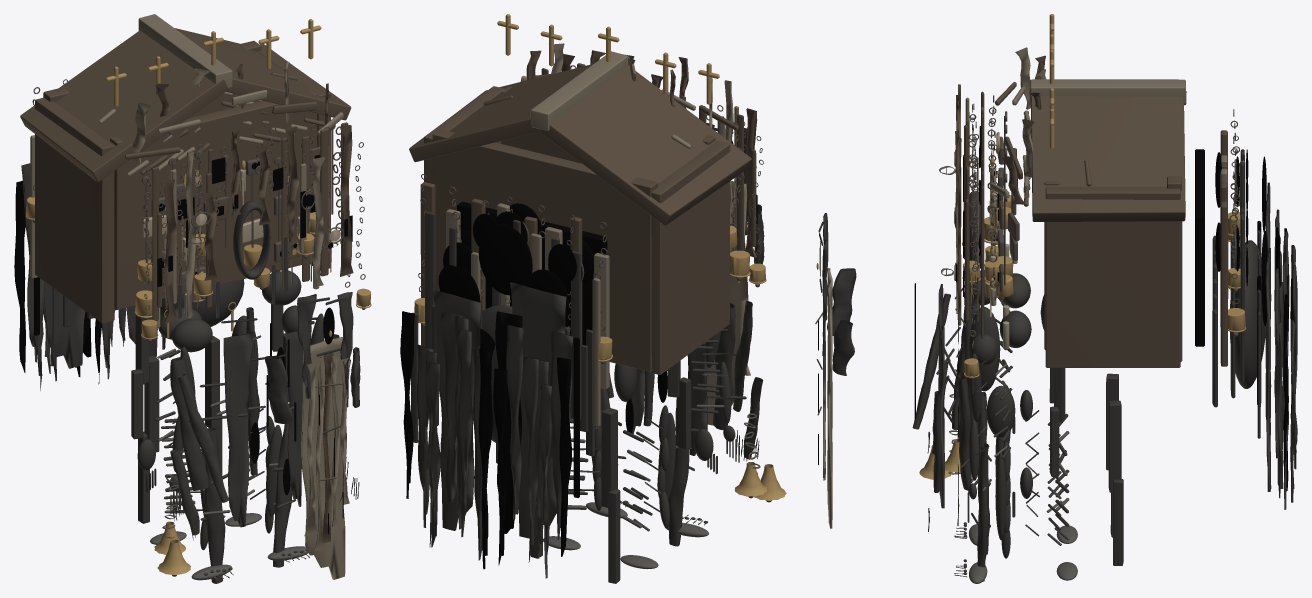
File: penance_carrier_end_goal_v15_mask_material_balance.glb
3 renders of one model, left to right at view 1: azimuth 30°, elevation 25°; view 2: azimuth 150°, elevation 25°; view 3: azimuth 270°, elevation 25°, orthographic. The views are drawn at different scales.
Parts seen in each view (by area): view 1: PC_V4_shrine_front_rotten_wall, PC_V4_shrine_left_side_wall, PC_V4_roof_left_steep_slab, PC_V15_rotten_wood_door_mask_broad_read, PC_V11_left_torn_front_cloak_sheet, PC_V4_roof_right_steep_slab, PC_V11_right_torn_front_cloak_sheet, PC_V4_roof_ridge_heavy_rot, PC_V11_5_left_arm_pinched_wrapped_sculpt, PC_V11_back_rotten_skin_sheet_left, PC_V11_6_back_thin_torn_rag_layer_00, PC_V11_5_left_leg_compressed_wrapped_sculpt (+44 smaller); view 2: PC_V4_shrine_rear_rotten_wall, PC_V4_roof_left_steep_slab, PC_V4_shrine_left_side_wall, PC_V4_roof_right_steep_slab, PC_V11_back_rotten_skin_sheet_left, PC_V11_back_rotten_skin_sheet_right, PC_V11_back_deep_rotted_hole_01, PC_V4_roof_ridge_heavy_rot, PC_V11_6_back_thin_torn_rag_layer_02, PC_V11_7_back_rotten_interior_tongue_02, PC_V4_back_black_rotten_hollow, PC_V11_5_back_layered_rotten_sheet_04 (+52 smaller); view 3: PC_V4_shrine_right_side_wall, PC_V4_roof_right_steep_slab, PC_V4_roof_ridge_heavy_rot, PC_V11_back_swollen_rotten_under_mass, PC_V4_back_black_rotten_hollow, PC_V15_rotten_wood_door_mask_broad_read, PC_V5_back_rotten_vertical_plank_07, PC_V11_5_right_leg_compressed_wrapped_sculpt, PC_V11_5_right_arm_pinched_wrapped_sculpt, PC_V6_right_wrapped_thigh, PC_V11_back_rotten_skin_sheet_right, PC_V14_left_compressed_shoulder_under_hood (+20 smaller).
Boxes of the visible parts, bbox=[...] form: PC_V4_shrine_front_rotten_wall: bbox=[110, 89, 317, 309]; PC_V4_shrine_left_side_wall: bbox=[35, 97, 114, 323]; PC_V4_roof_left_steep_slab: bbox=[20, 30, 228, 182]; PC_V15_rotten_wood_door_mask_broad_read: bbox=[301, 336, 349, 579]; PC_V11_left_torn_front_cloak_sheet: bbox=[223, 332, 253, 527]; PC_V4_roof_right_steep_slab: bbox=[174, 28, 351, 120]; PC_V11_right_torn_front_cloak_sheet: bbox=[284, 331, 302, 506]; PC_V4_roof_ridge_heavy_rot: bbox=[138, 14, 232, 87]; PC_V11_5_left_arm_pinched_wrapped_sculpt: bbox=[170, 357, 209, 490]; PC_V11_back_rotten_skin_sheet_left: bbox=[43, 281, 85, 368]; PC_V11_6_back_thin_torn_rag_layer_00: bbox=[14, 181, 25, 372]; PC_V11_5_left_leg_compressed_wrapped_sculpt: bbox=[204, 427, 225, 583]; PC_V4_shrine_rear_rotten_wall: bbox=[432, 129, 657, 371]; PC_V4_roof_left_steep_slab: bbox=[540, 65, 751, 225]; PC_V4_shrine_left_side_wall: bbox=[648, 140, 730, 374]; PC_V4_roof_right_steep_slab: bbox=[409, 65, 590, 162]; PC_V11_back_rotten_skin_sheet_left: bbox=[510, 282, 566, 538]; PC_V11_back_rotten_skin_sheet_right: bbox=[433, 290, 481, 530]; PC_V11_back_deep_rotted_hole_01: bbox=[478, 224, 532, 295]; PC_V4_roof_ridge_heavy_rot: bbox=[530, 51, 628, 130]; PC_V11_6_back_thin_torn_rag_layer_02: bbox=[506, 324, 523, 520]; PC_V11_7_back_rotten_interior_tongue_02: bbox=[456, 328, 472, 537]; PC_V4_back_black_rotten_hollow: bbox=[457, 201, 607, 345]; PC_V11_5_back_layered_rotten_sheet_04: bbox=[440, 311, 463, 502]; PC_V4_shrine_right_side_wall: bbox=[1045, 187, 1180, 367]; PC_V4_roof_right_steep_slab: bbox=[1030, 96, 1185, 221]; PC_V4_roof_ridge_heavy_rot: bbox=[1030, 79, 1185, 104]; PC_V11_back_swollen_rotten_under_mass: bbox=[1230, 240, 1266, 388]; PC_V4_back_black_rotten_hollow: bbox=[1195, 149, 1204, 346]; PC_V15_rotten_wood_door_mask_broad_read: bbox=[827, 268, 832, 528]; PC_V5_back_rotten_vertical_plank_07: bbox=[1220, 201, 1227, 366]; PC_V11_5_right_leg_compressed_wrapped_sculpt: bbox=[977, 443, 988, 581]; PC_V11_5_right_arm_pinched_wrapped_sculpt: bbox=[957, 373, 971, 490]; PC_V6_right_wrapped_thigh: bbox=[1108, 400, 1121, 492]; PC_V11_back_rotten_skin_sheet_right: bbox=[1266, 248, 1271, 491]; PC_V14_left_compressed_shoulder_under_hood: bbox=[827, 268, 856, 335].
Size of the model in its own units: 2.34 by 4.48 by 3.79.
